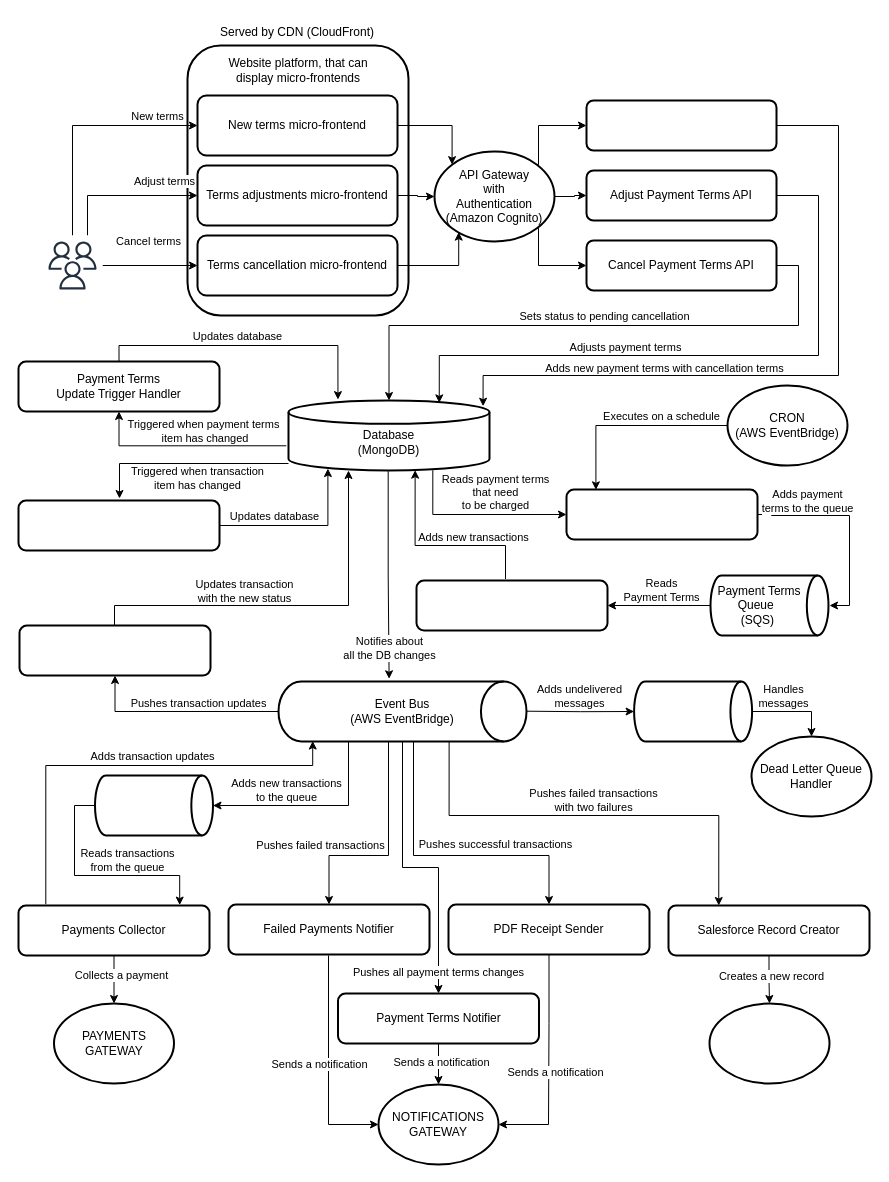
Some shapes in this 889 by 1182 pixel diagram are drawn without their labels. The box of each missing label's shape, as (x1, y1, x2, y2) in pixels:
Create Payment Terms API: (585, 99, 777, 151)
Dead Letter Queue (SQS): (633, 680, 753, 742)
Payment Terms Loader: (565, 488, 758, 540)
Payments Collector Queue (SQS): (94, 774, 214, 836)
SALESFORCE GATEWAY: (708, 1002, 830, 1084)
Transactions Creator: (415, 579, 608, 631)
Transactions Update Trigger Handler: (17, 499, 220, 551)
Transactions Updater: (18, 624, 211, 676)
Users: (42, 235, 102, 295)
